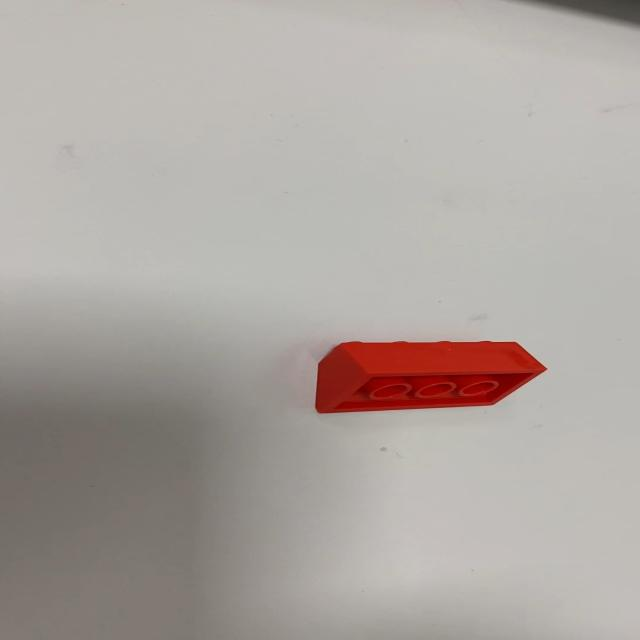P4x2x1: (313, 339, 547, 414)
